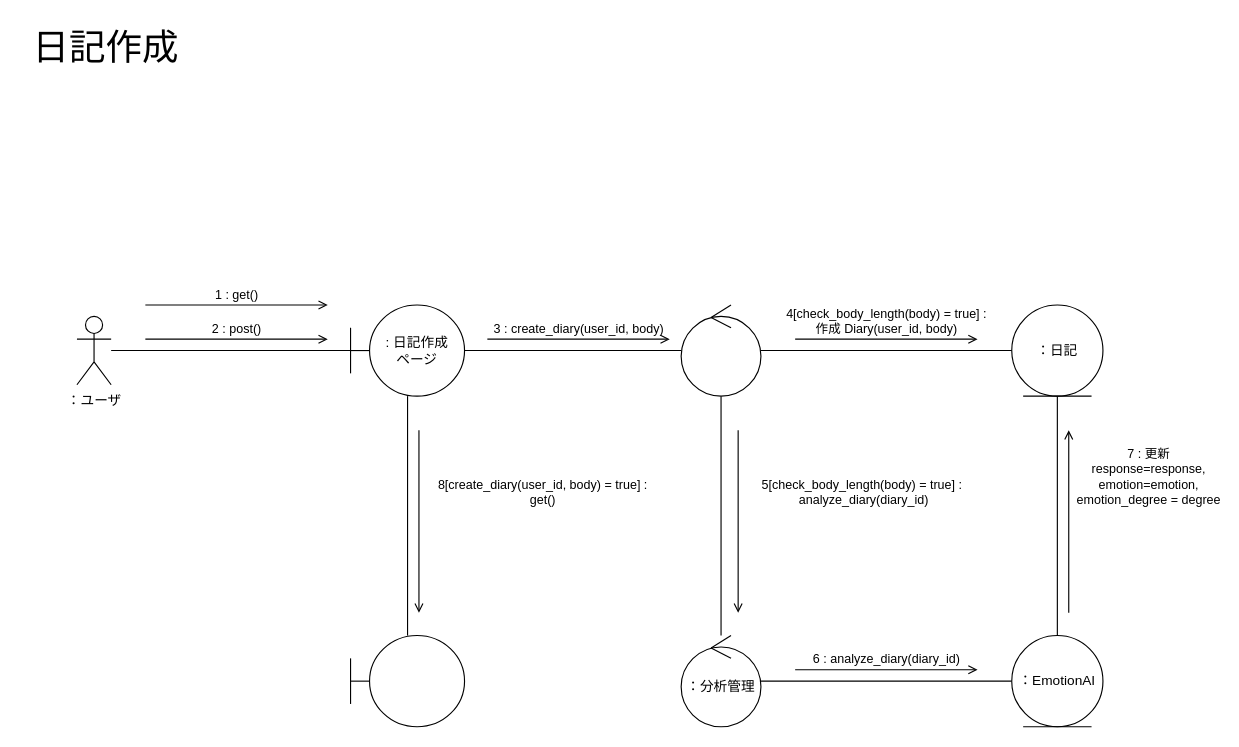
Image size: 1239x747. Some labels were removed from this diagram. Each missing label, with the centre of its shape:
": 日記一覧 ページ" goes at (x=407, y=680).
"：日記記録管理" goes at (x=720, y=350).
